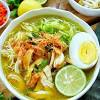soto: (2, 6, 100, 99)
